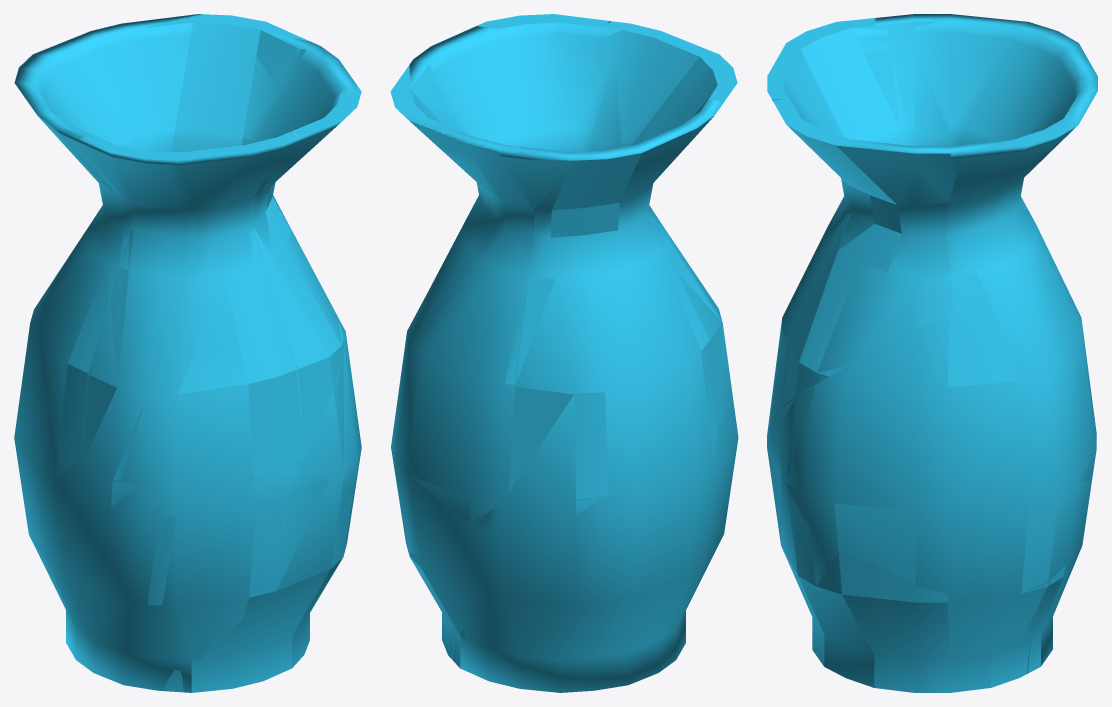
The model's file is Vase.fbx.
3 renders of one model, left to right at view 1: azimuth 30°, elevation 25°; view 2: azimuth 150°, elevation 25°; view 3: azimuth 270°, elevation 25°, orthographic.
Parts seen in each view (by area): view 1: Vase, Vase_cell.005, Vase_cell.006, Vase_cell.002, Vase_cell.003, Vase_cell.001, Vase_cell; view 2: Vase, Vase_cell.001, Vase_cell.005, Vase_cell.002, Vase_cell.004, Vase_cell.003, Vase_cell, Vase_cell.006; view 3: Vase, Vase_cell.006, Vase_cell.003, Vase_cell.005, Vase_cell, Vase_cell.001, Vase_cell.002, Vase_cell.004.
Boxes of the visible parts, x1,y1,x2,y2 form: Vase: (14,14,361,692); Vase_cell.005: (80,132,302,481); Vase_cell.006: (111,465,353,692); Vase_cell.002: (125,14,310,152); Vase_cell.003: (253,49,361,431); Vase_cell.001: (38,100,128,465); Vase_cell: (298,358,357,493); Vase: (391,21,738,692); Vase_cell.001: (509,102,718,499); Vase_cell.005: (589,21,737,426); Vase_cell.002: (390,65,534,384); Vase_cell.004: (421,437,717,668); Vase_cell.003: (426,14,609,76); Vase_cell: (391,448,470,550); Vase_cell.006: (407,547,454,659); Vase: (768,14,1097,673); Vase_cell.006: (767,416,1065,692); Vase_cell.003: (772,99,960,405); Vase_cell.005: (767,18,908,427); Vase_cell: (776,313,1096,593); Vase_cell.001: (887,21,1041,146); Vase_cell.002: (951,69,1095,334); Vase_cell.004: (1027,549,1080,673).
Size of the model in its own units: 57.66 by 108 by 57.75.
